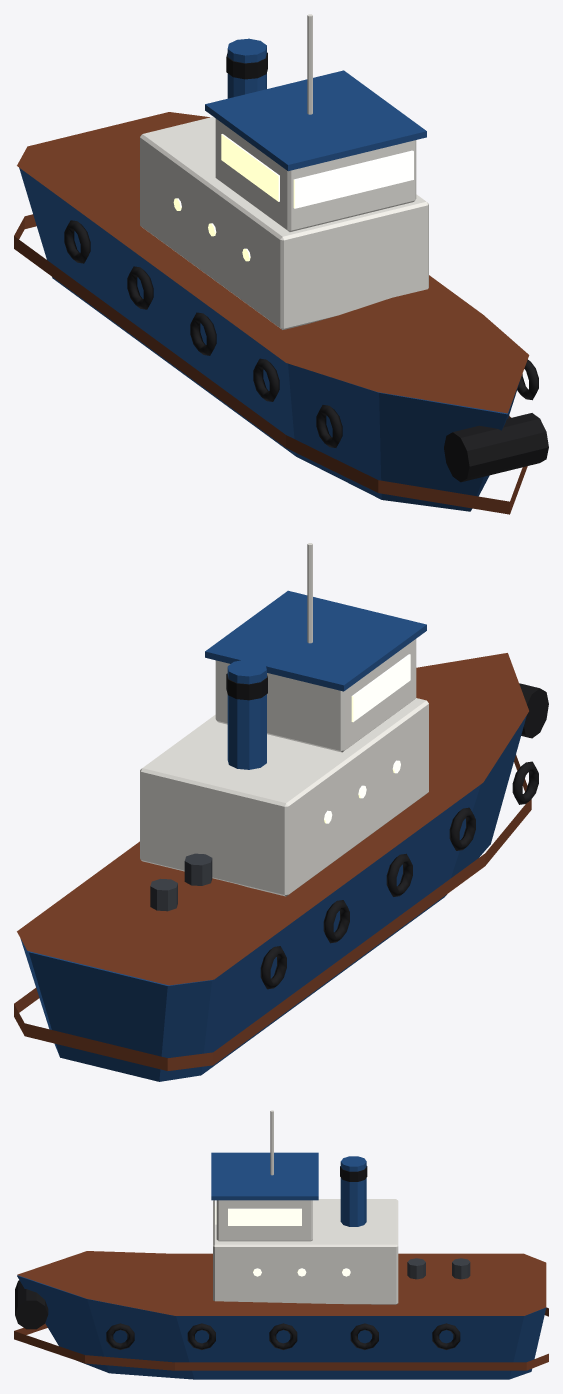
File: tugboat.glb
3 renders of one model, top to bottom at view 1: azimuth 30°, elevation 25°; view 2: azimuth 150°, elevation 25°; view 3: azimuth 270°, elevation 25°, orthographic. The views are drawn at different scales.
Visible parts, largest first — view 1: tugboat; view 2: tugboat; view 3: tugboat.
Part boxes in pixels (x1,y1,x2,y2): tugboat: (14, 14, 548, 514); tugboat: (14, 543, 548, 1081); tugboat: (14, 1110, 548, 1379).
Size of the model in its own units: 4.16 by 7.3 by 14.44.
